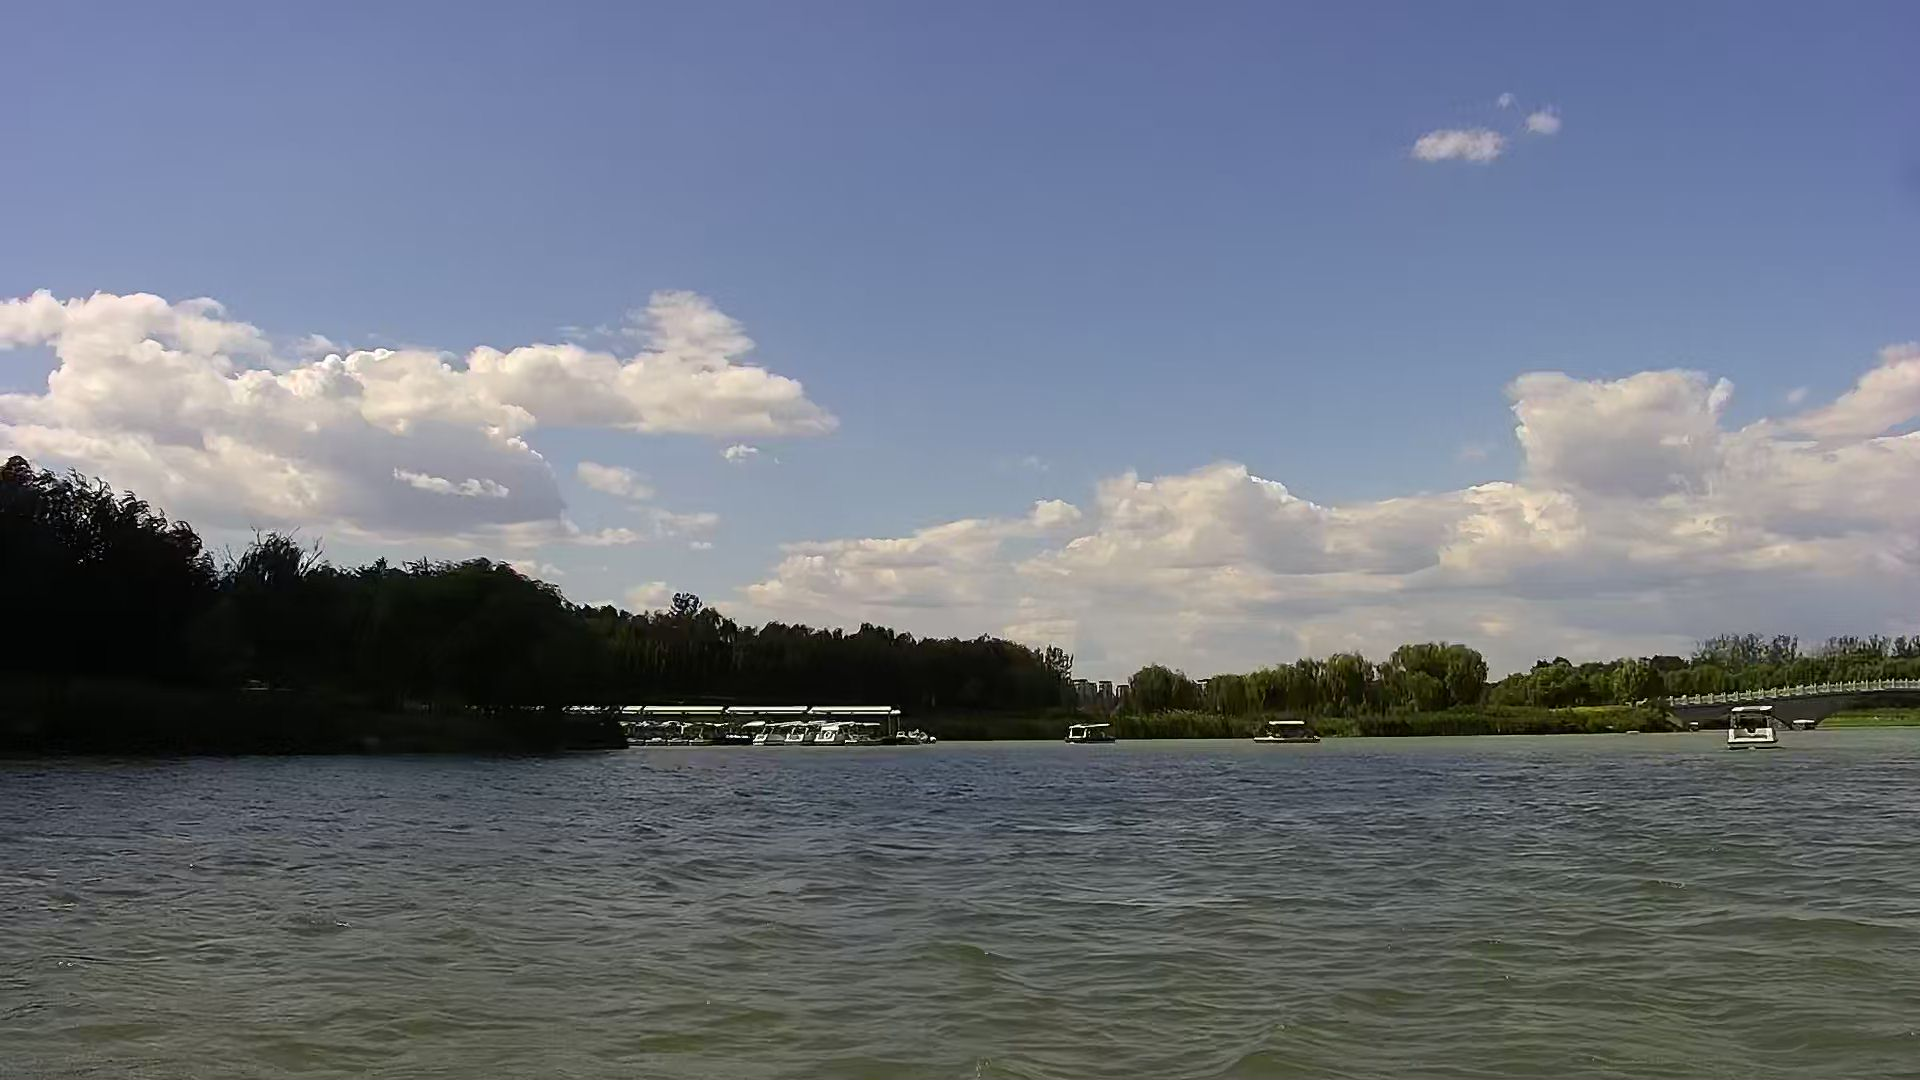boat: (1725, 692, 1785, 749), (1254, 713, 1325, 749), (822, 720, 891, 750), (1065, 717, 1120, 752), (760, 720, 803, 749), (793, 720, 822, 748)
bridge: (1654, 680, 1920, 732)
